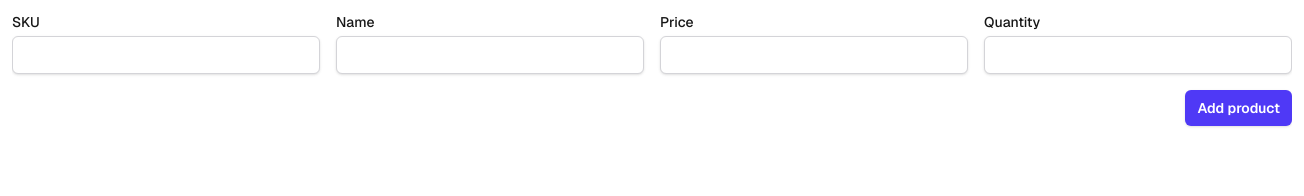
Test case: ProductForm › rejects a quantity that is not a whole number
The width and height of the screenshot is (1304, 196).
Type "MS-002" into the field labelled "SKU" at (166, 55), box [12, 36, 320, 74]
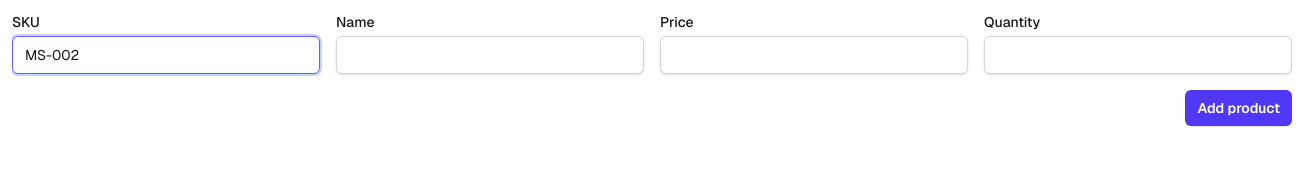
Type "Mouse" into the field labelled "Name" at (490, 55), box [336, 36, 644, 74]
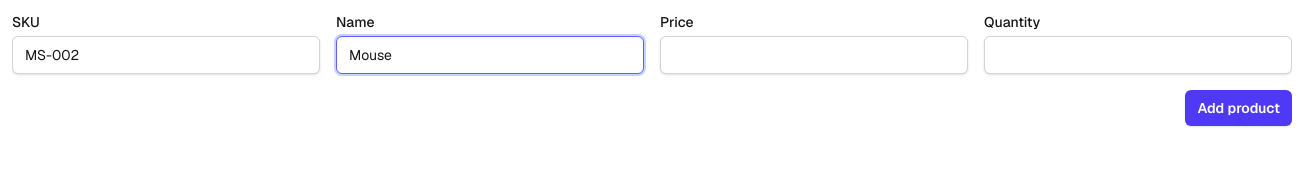
Type "25" into the number field labelled "Price" at (814, 55), box [660, 36, 968, 74]
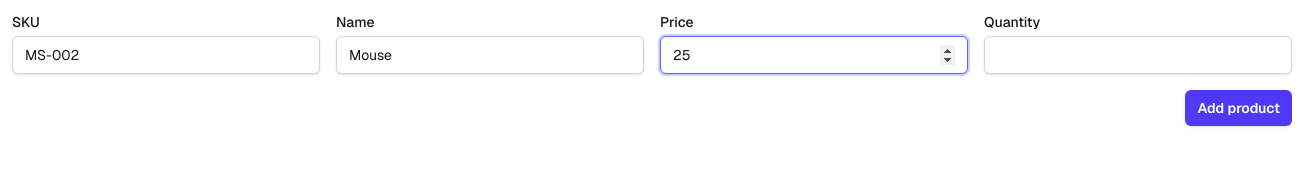
Type "2.5" into the number field labelled "Quantity" at (1138, 55), box [984, 36, 1292, 74]
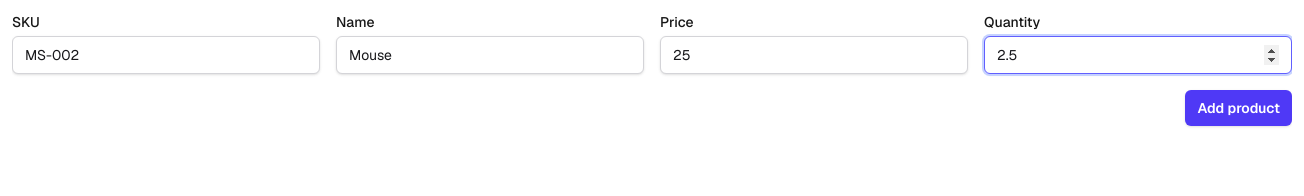
Click the button "Add product" at (1239, 108), box [1186, 90, 1292, 126]
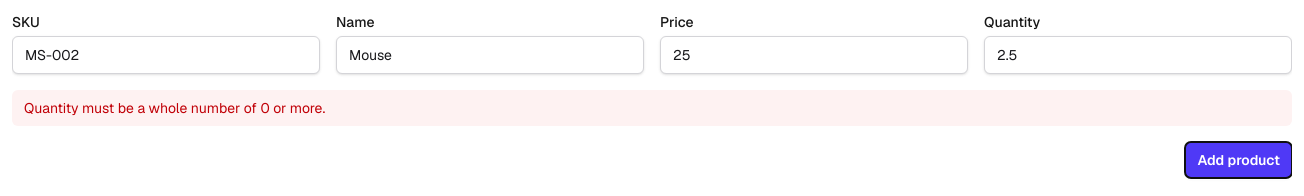
Expected: the message shows "Quantity must be a whole number", [24, 99, 325, 117]
